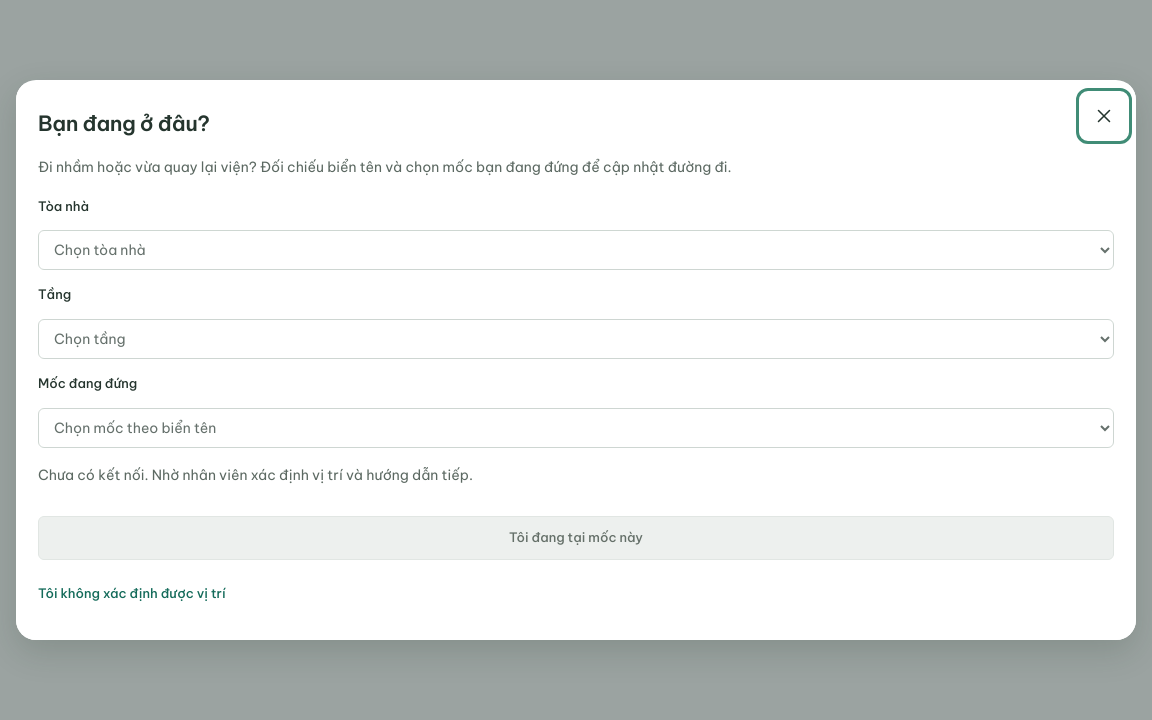
Test case: allows reading help offline but blocks location confirmation
The image size is (1152, 720).
Check: the button "Tôi đang tại mốc này" is disabled, box [38,516,1114,560]
Click the button "Tôi không xác định được vị trí". click: (132, 593)
box: [38,572,1114,616]
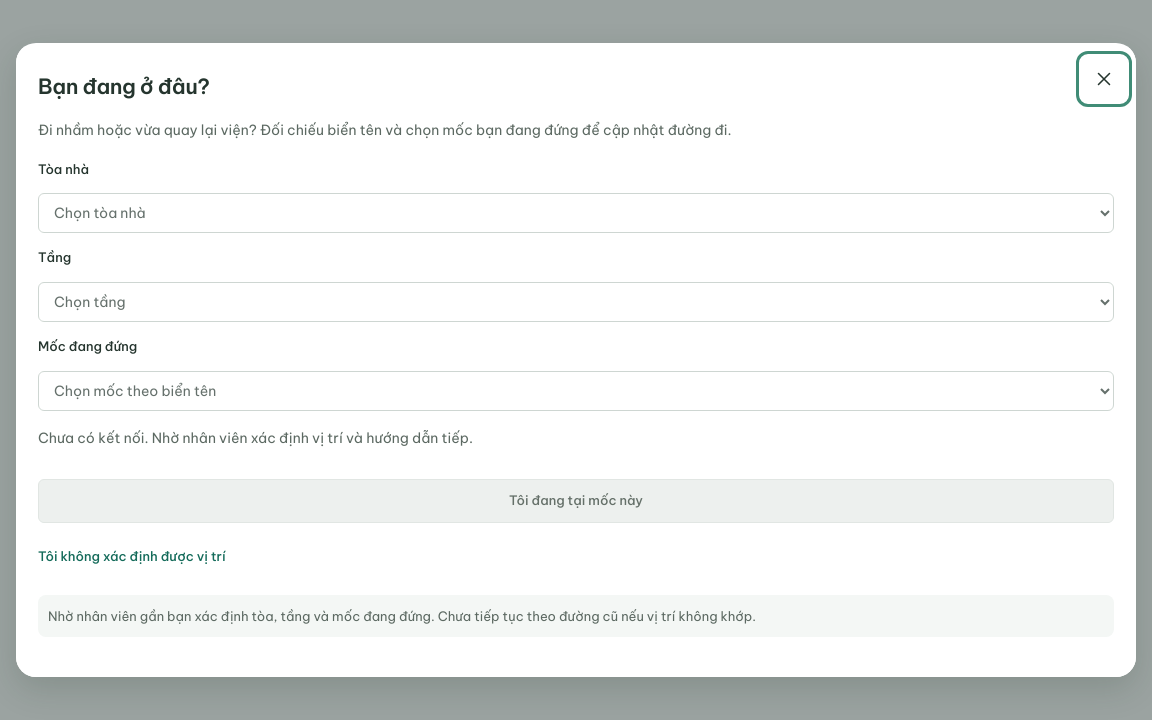
Check: the message with class "location-help" is shown, box [38,595,1114,637]
